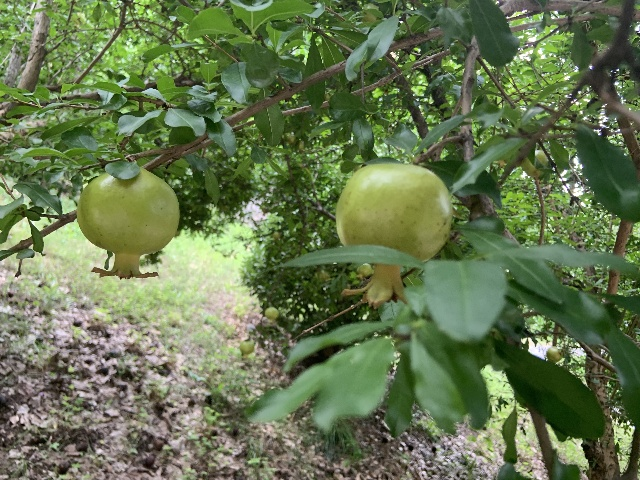mid-growth: (336, 162, 453, 308), (76, 167, 179, 279), (522, 150, 548, 181), (355, 263, 373, 280), (239, 340, 255, 359), (546, 346, 562, 362), (264, 307, 279, 322)
